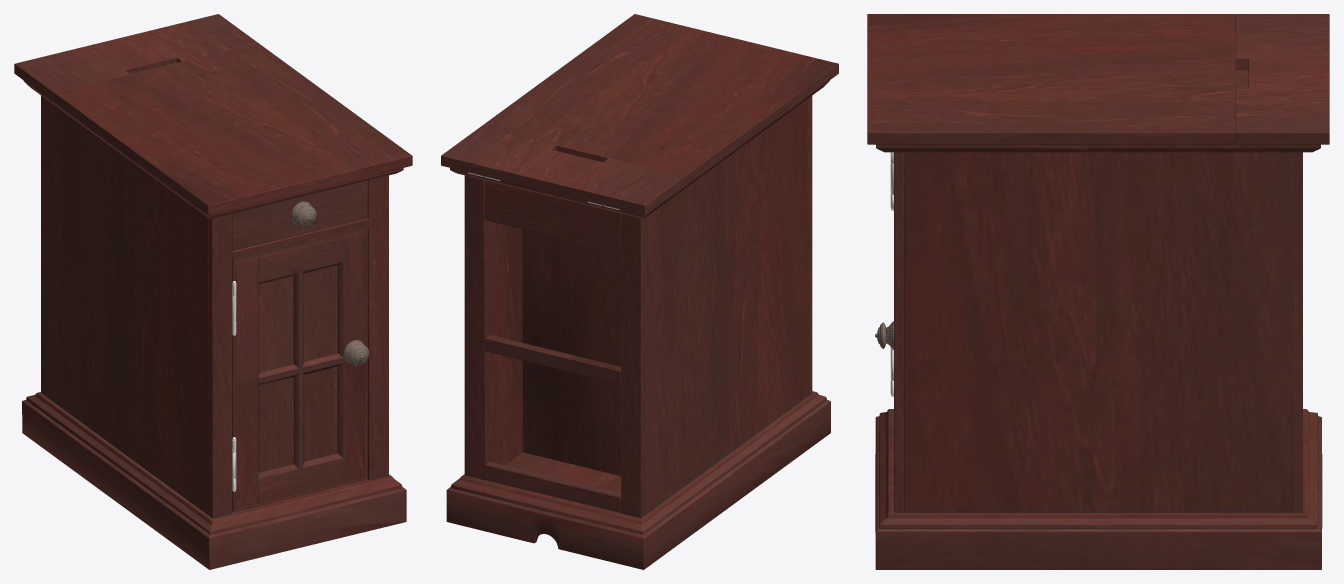
The model's file is B07H2BTCFZ.glb.
3 views of the same model, side by side, from view 1: azimuth 30°, elevation 25°; view 2: azimuth 150°, elevation 25°; view 3: azimuth 270°, elevation 25° (orthographic). The views are drawn at different scales.
Visible parts, largest first — view 1: B07H2BTCFZ; view 2: B07H2BTCFZ; view 3: B07H2BTCFZ.
Part boxes in pixels (box(x1,y1,x2,y2)): B07H2BTCFZ: box(14, 14, 412, 569); B07H2BTCFZ: box(441, 14, 838, 569); B07H2BTCFZ: box(867, 14, 1329, 569).
Size of the model in its own units: 0.3556 by 0.6121 by 0.5842.
Materials: 1 (1 with a texture image).
